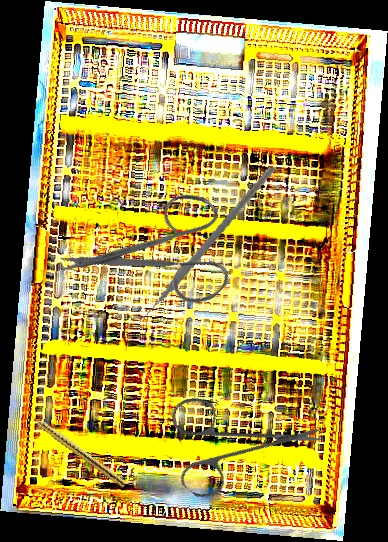Chopper: (124, 148, 277, 338)
Handpiece: (25, 409, 129, 489)
Iris Scissors: (53, 155, 260, 362), (139, 350, 328, 537)
